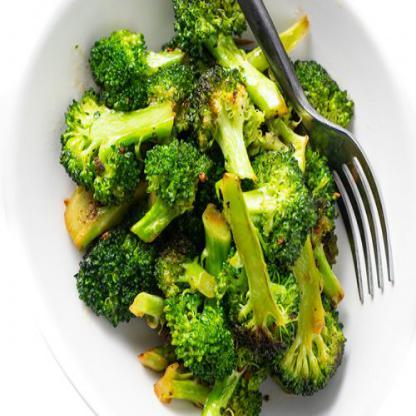broccoli: (58, 0, 356, 415)
